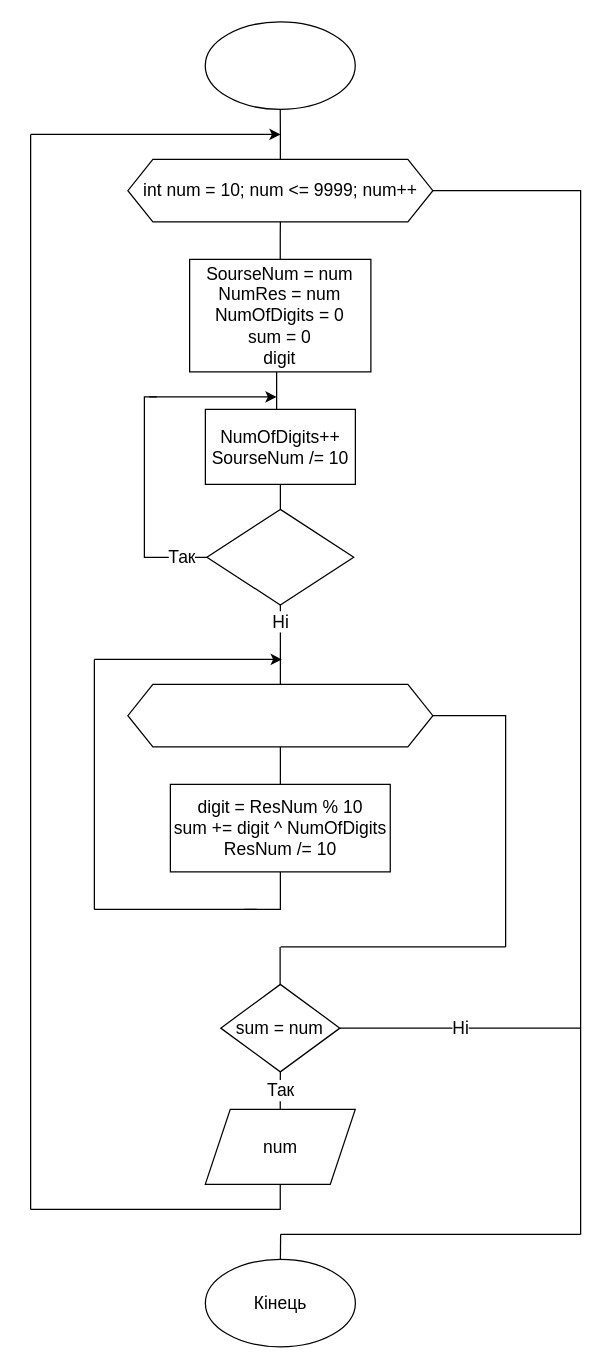
The diagram is 604 pixels wide and 1369 high, and some of its shapes have lost their labels. Here are the shapes that lost their labels. From the top down, the centre of each, then its label:
At (x=279, y=65): "Початок".
At (x=280, y=556): "SourseNum > 0".
At (x=280, y=715): "int i = 0; i < NumOfDigits; i++".
